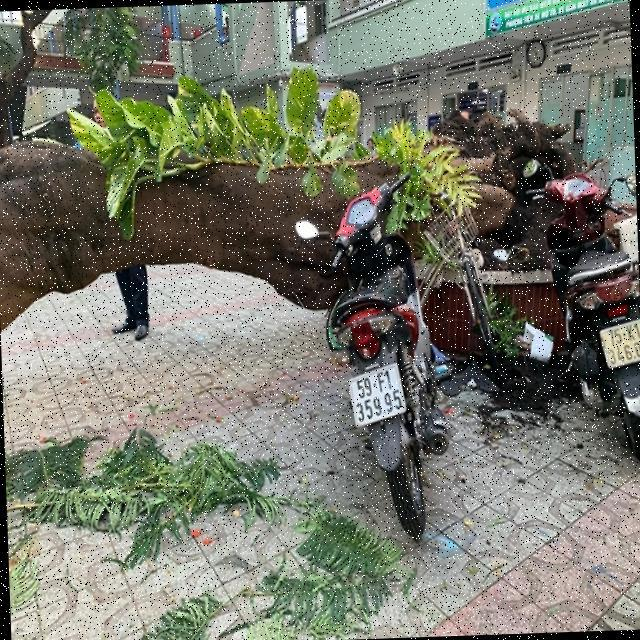fallen_object: (0, 68, 621, 373)
